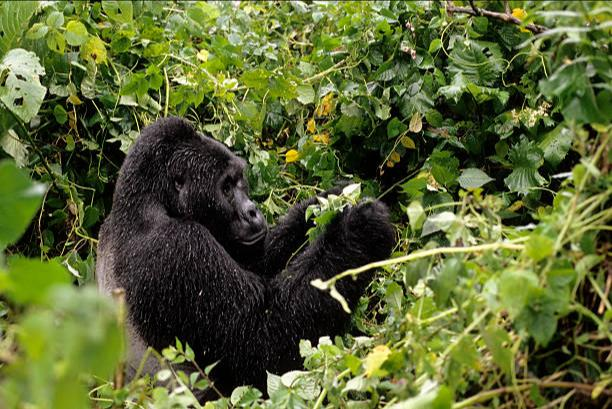goriile_montagne: (96, 109, 398, 366)
